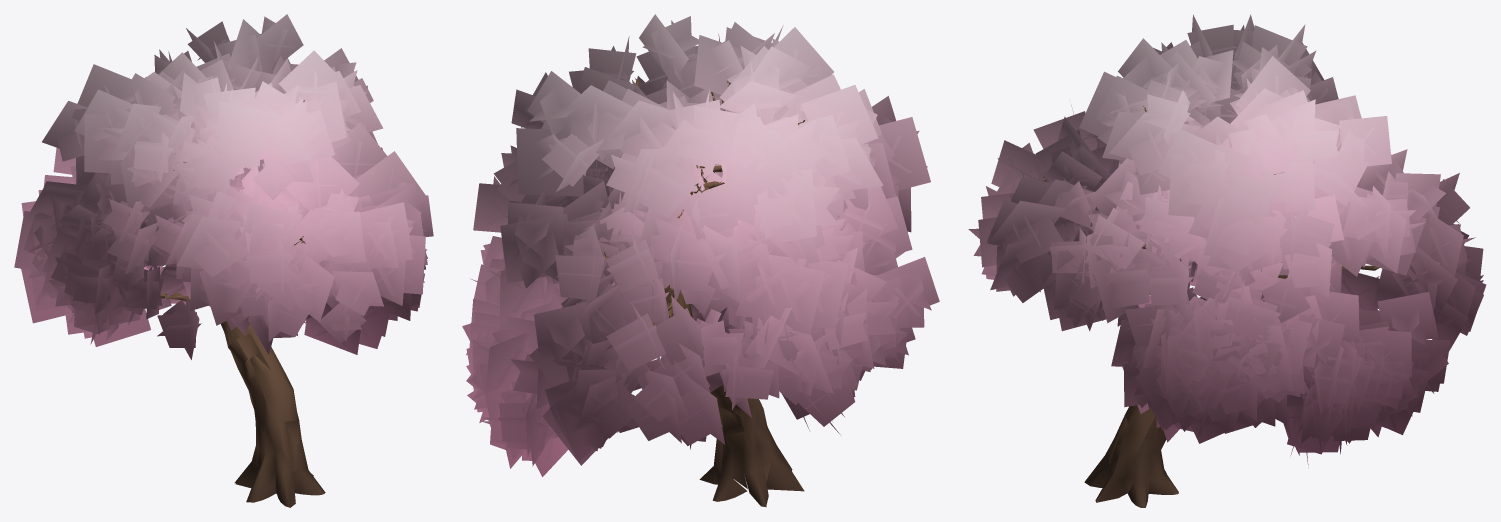
File: q_tree_blossom.glb
The picture shows the model from 3 angles, left to right: view 1: azimuth 30°, elevation 25°; view 2: azimuth 150°, elevation 25°; view 3: azimuth 270°, elevation 25°; orthographic projection. The views are drawn at different scales.
Parts seen in each view (by area): view 1: Leaves, Trunk; view 2: Leaves, Trunk; view 3: Leaves, Trunk.
Boxes of the visible parts, <box> form: Leaves: <box>14,14,433,359</box>; Trunk: <box>160,100,325,507</box>; Leaves: <box>462,14,939,476</box>; Trunk: <box>572,77,804,507</box>; Leaves: <box>968,14,1486,467</box>; Trunk: <box>1041,106,1379,507</box>.
Bounding box in the file's own units: 4.69 × 5.2 × 5.69.
